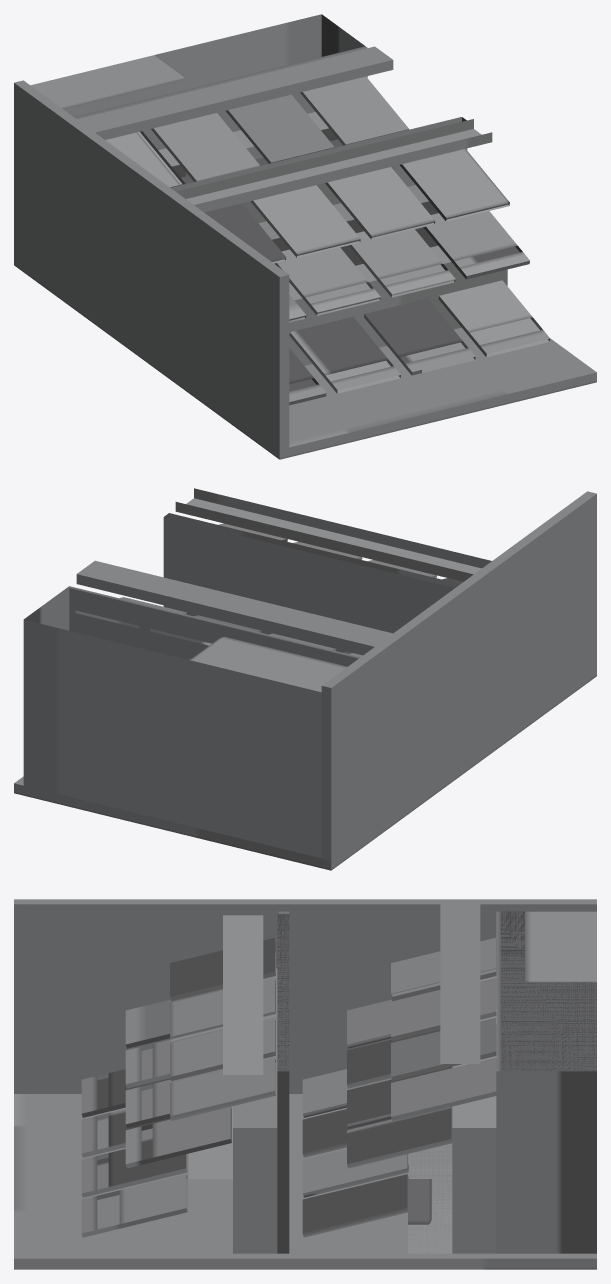
The picture shows the model from 3 angles, top to bottom: view 1: azimuth 30°, elevation 25°; view 2: azimuth 150°, elevation 25°; view 3: azimuth 270°, elevation 25°; orthographic projection. The views are drawn at different scales.
Bounding box in the file's own units: 1 × 0.55 × 1.45.
